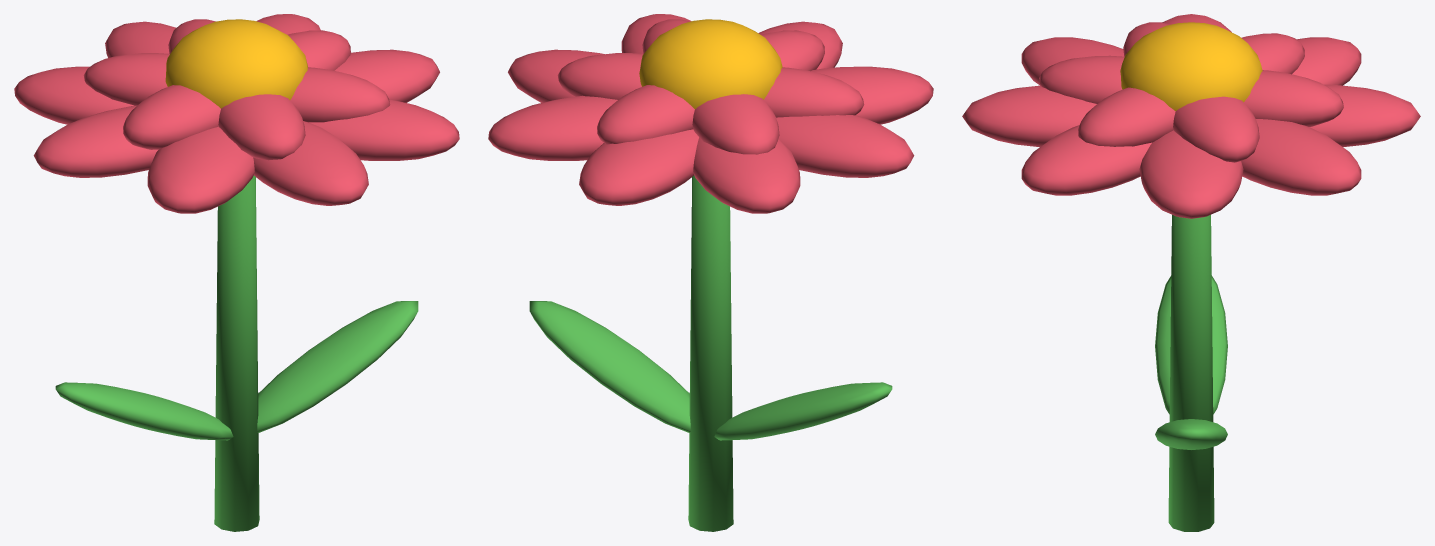
Rendered from flower_red.glb.
3 views of the same model, side by side, from view 1: azimuth 30°, elevation 25°; view 2: azimuth 150°, elevation 25°; view 3: azimuth 270°, elevation 25° (orthographic).
Visible parts, largest first — view 1: flower_red; view 2: flower_red; view 3: flower_red.
Boxes of the visible parts, x1,y1,x2,y2 form: flower_red: [14, 14, 459, 531]; flower_red: [488, 14, 933, 531]; flower_red: [962, 14, 1420, 531].
Size of the model in its own units: 0.44 by 0.52 by 0.44.
